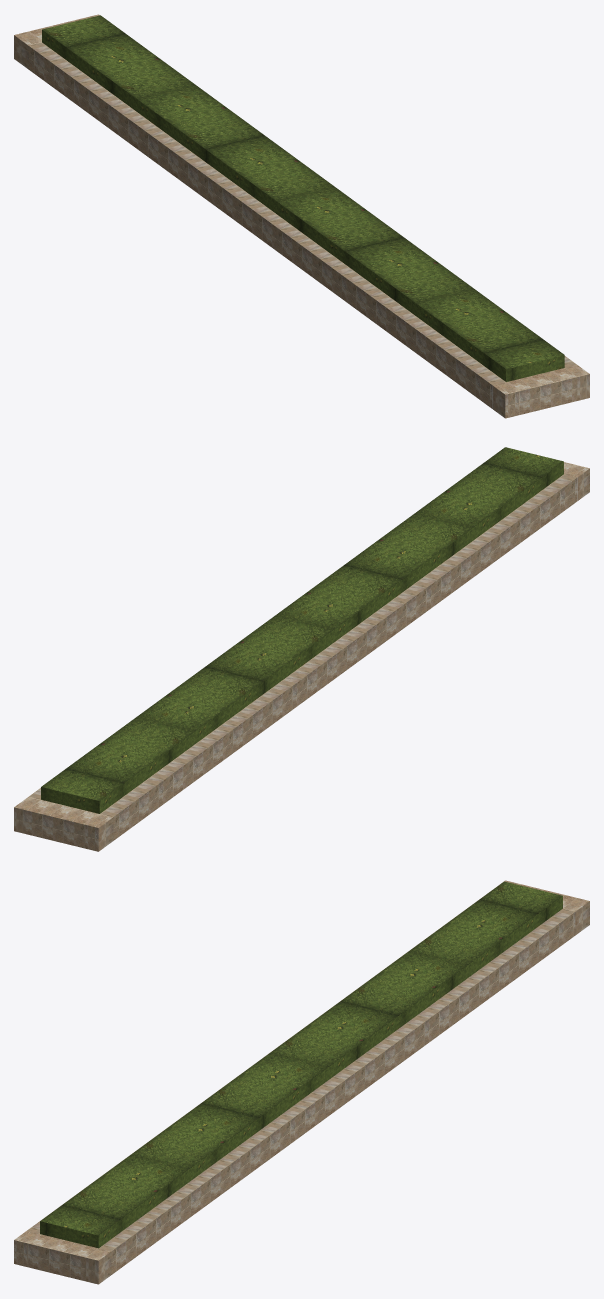
File: green belt.FBX
3 renders of one model, top to bottom at view 1: azimuth 30°, elevation 25°; view 2: azimuth 150°, elevation 25°; view 3: azimuth 330°, elevation 25°, orthographic.
Parts seen in each view (by area): view 1: Box001; view 2: Box001; view 3: Box001.
Part boxes in pixels (x1=…): Box001: x1=14, y1=14, x2=589, y2=418; Box001: x1=14, y1=447, x2=589, y2=851; Box001: x1=14, y1=880, x2=589, y2=1284.
Bounding box in the file's own units: 47.44 × 19.69 × 477.
1 material, 1 textured.
